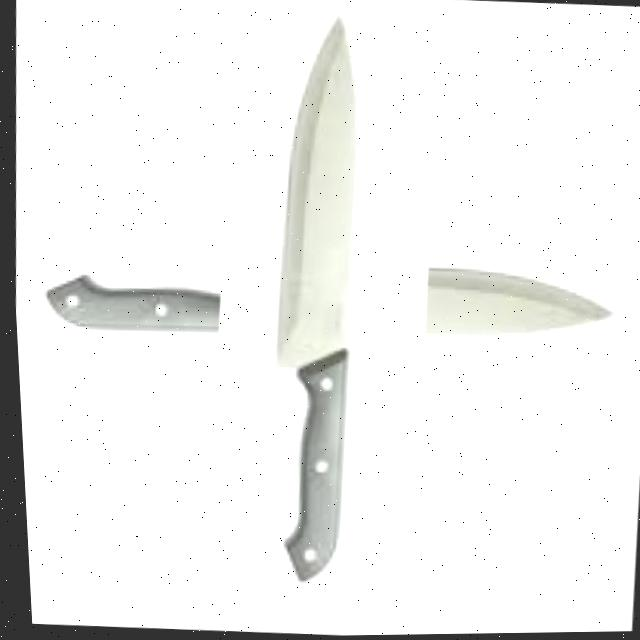knife: (243, 8, 385, 587), (39, 244, 612, 360)
